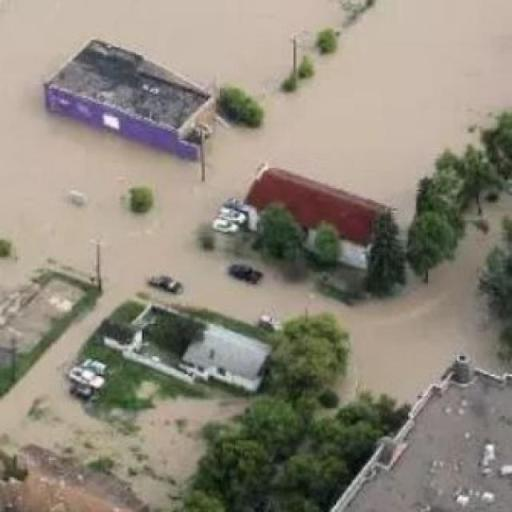flood: (0, 0, 512, 512)
house: (46, 41, 214, 161), (240, 159, 400, 275)
